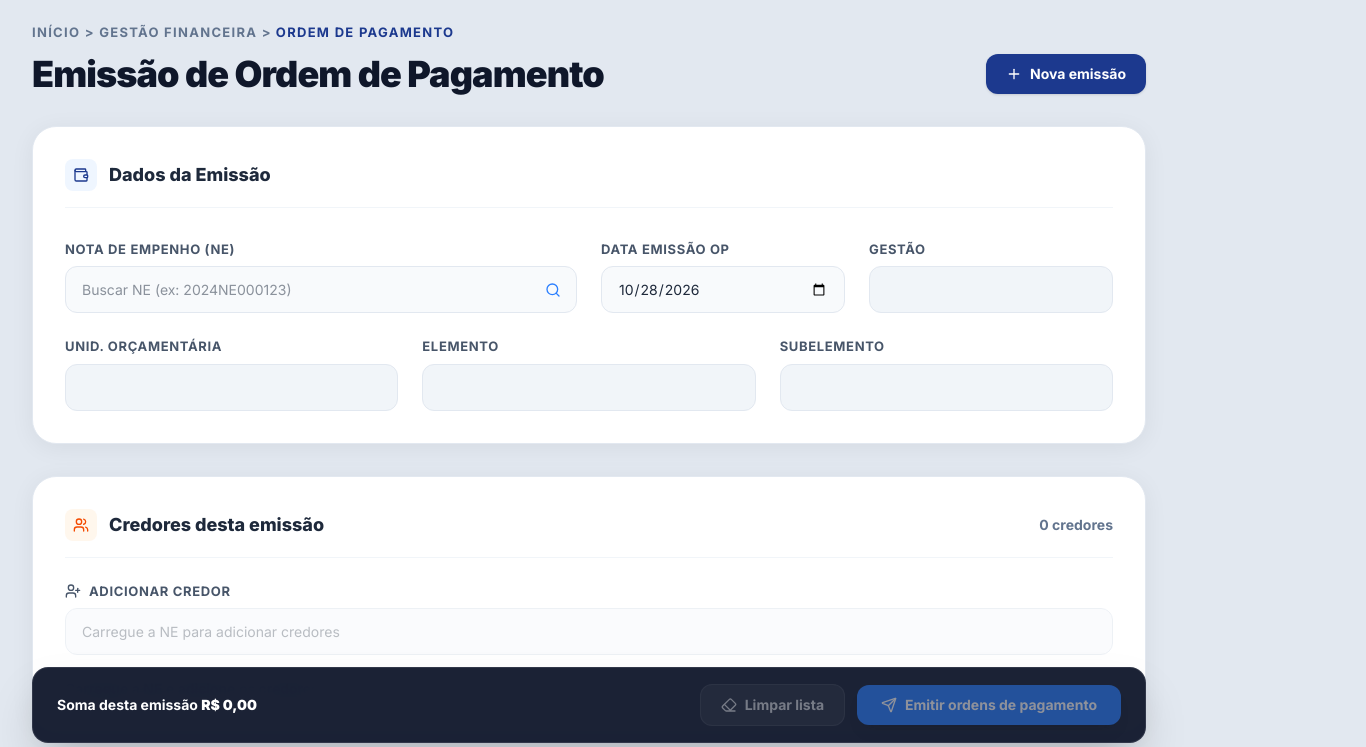
Test: Emissão de OP com lista de credores (T35-B) › linhas com MEI, município de expediente só quando existe, número previsto por posição
This screenshot has width=1366, height=747.
Type "2026NE000001" into the dropdown labelled "Nota de Empenho (NE)" at (321, 290), box [65,266,577,313]
Click the button named "Carregar a NE" at (553, 290), box [537,274,569,306]
(page scrolled)
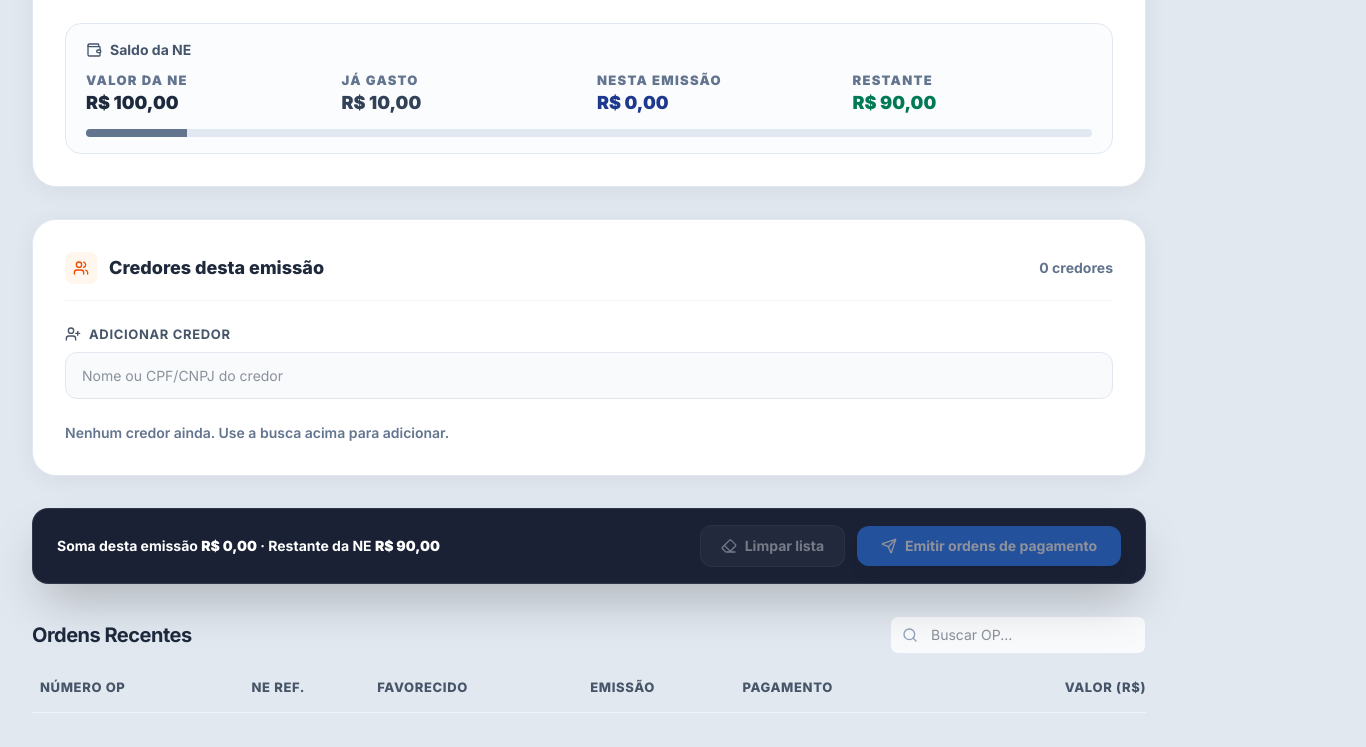
Now the element with test id "faixa-saldo-emissao" is shown, box [65,23,1113,154]
Type "Ana" into the dropdown labelled "Adicionar credor" at (589, 375), box [65,352,1113,399]
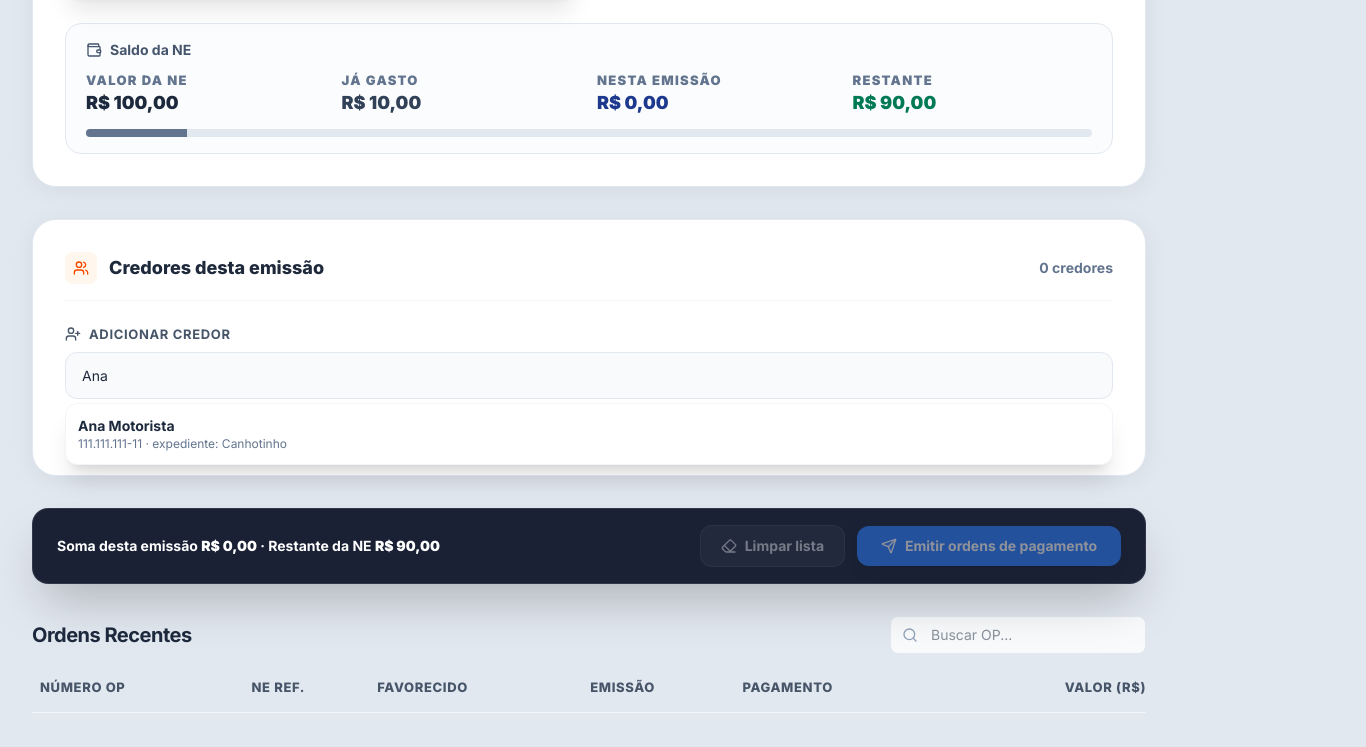
Press the mouse on the option "Ana Motorista 111.111.111-11 · expediente: Canhotinho" at (182, 434), box [78,417,287,451]
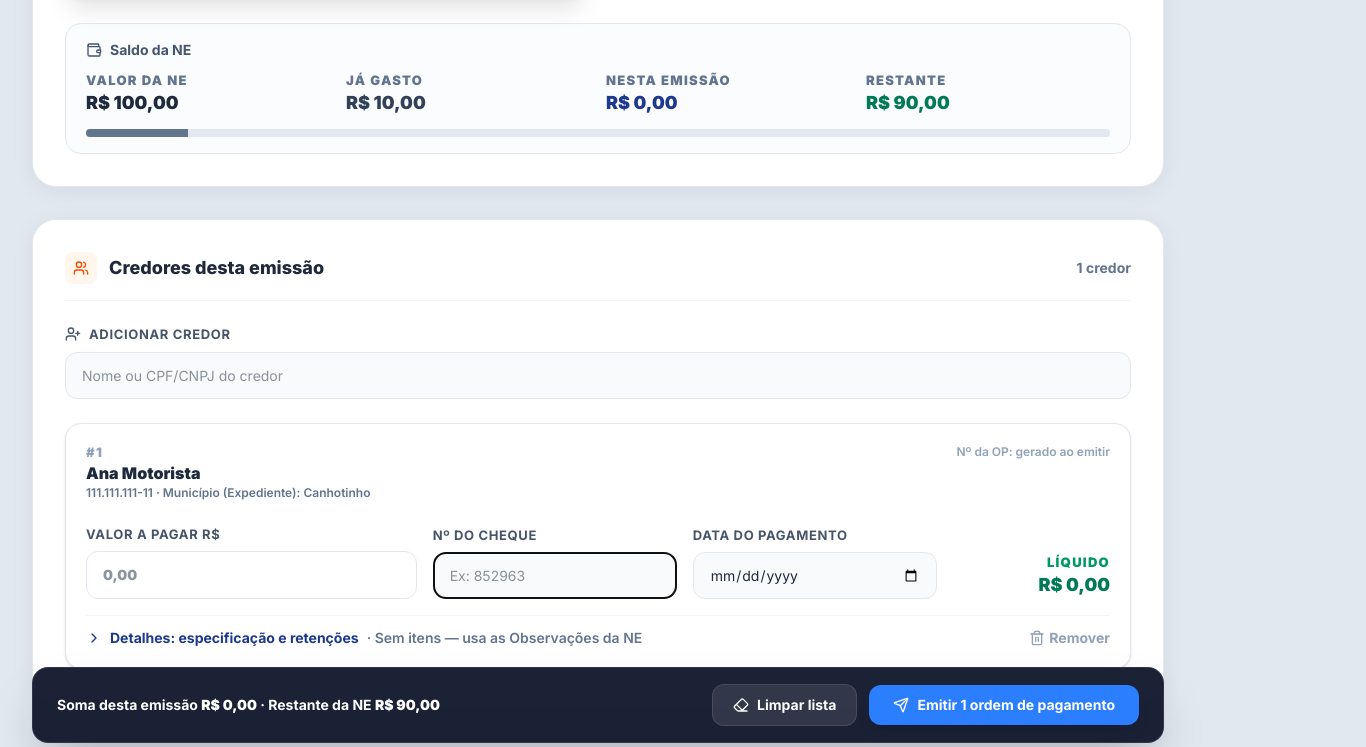
Type "Brun" into the dropdown labelled "Adicionar credor" at (598, 375), box [65,352,1131,399]
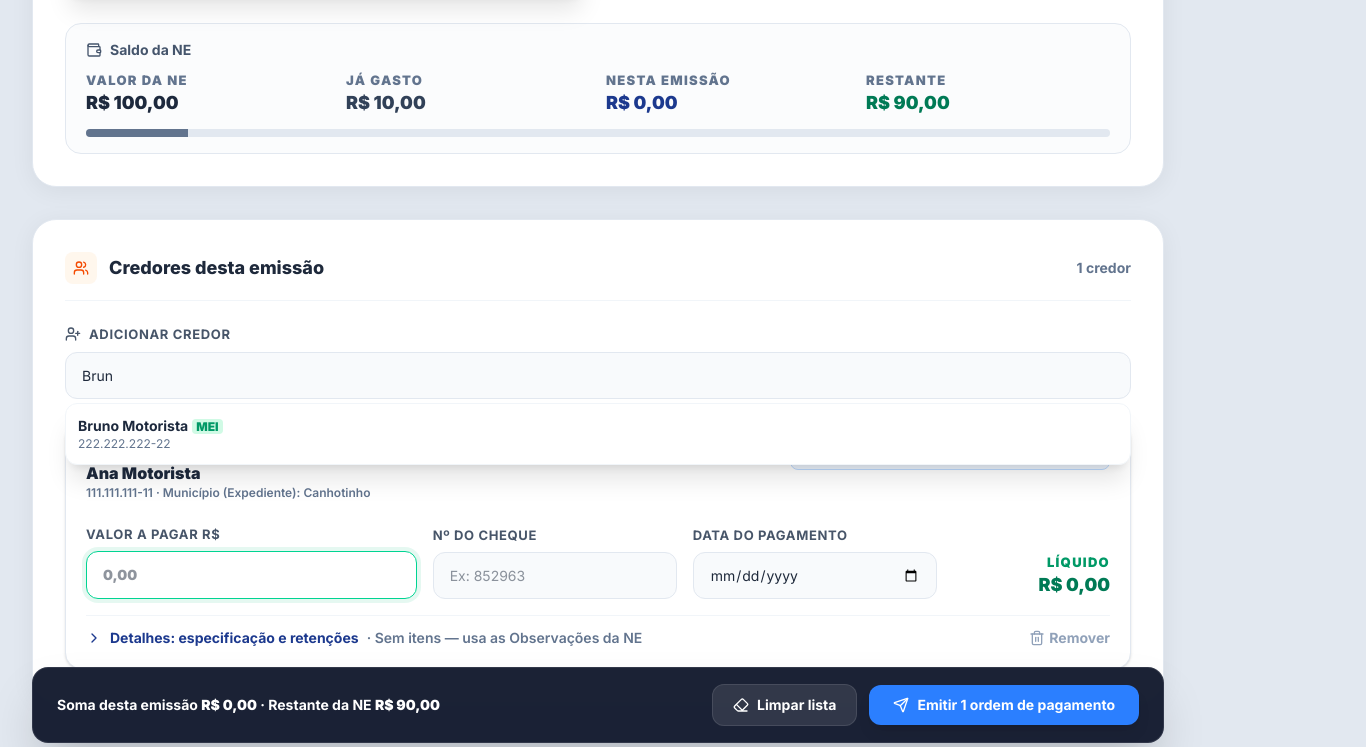
Press the mouse on the option "Bruno" at (150, 434), box [78,417,223,451]
(page scrolled)
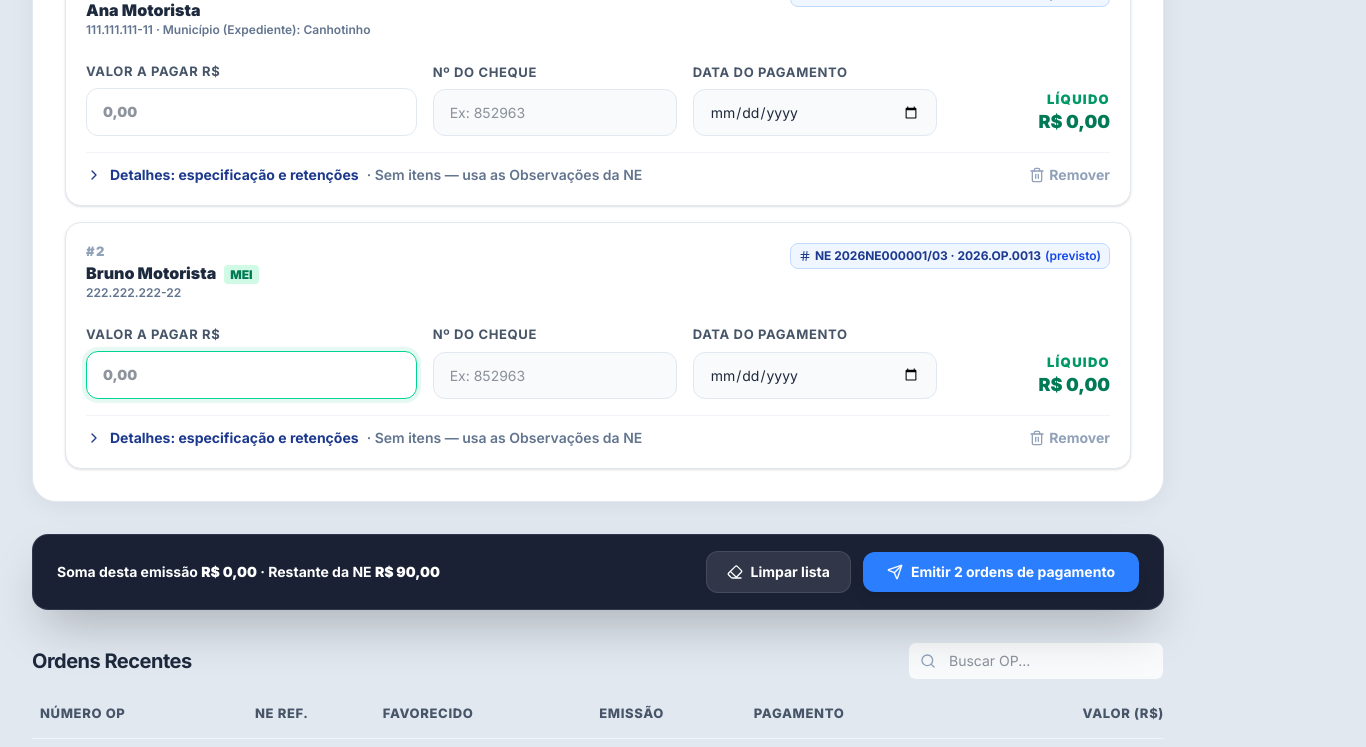
Now the text "111.111.111-11 · Município (Expediente): Canhotinho" is shown, box [86,22,370,38]
Now the text "MEI" is shown, box [224,265,258,284]
Now the text "NE 2026NE000001/03 · 2026.OP.0013 (previsto)" is shown, box [790,243,1110,269]
Click the button with aria-label "Remover Ana" at (1070, 175), box [1029,165,1110,185]
(page scrolled)
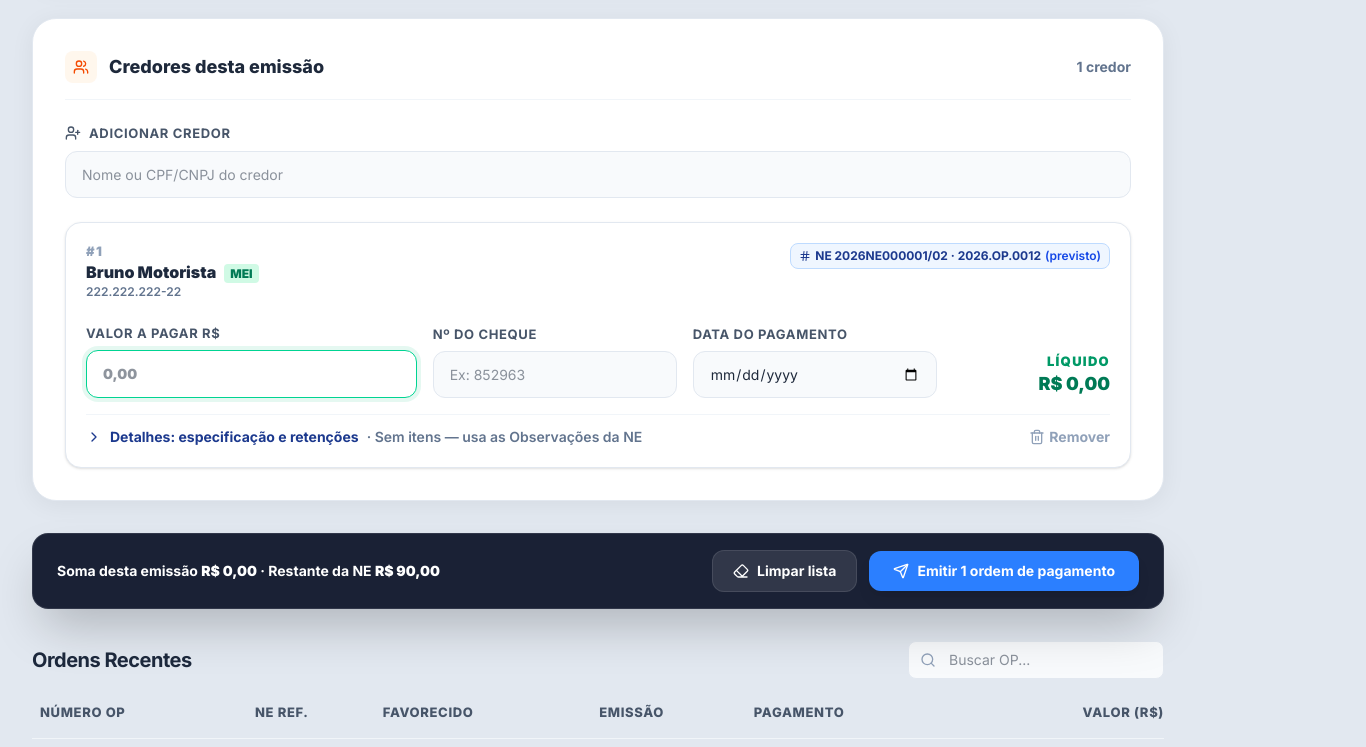
Now the text "Bruno Motorista" is shown, box [86,262,216,282]
Now the text "NE 2026NE000001/02 · 2026.OP.0012 (previsto)" is shown, box [790,243,1110,269]
